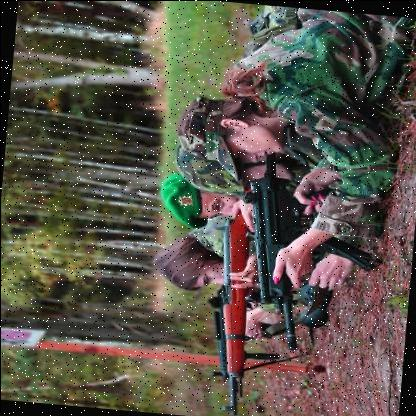rifle: (223, 150, 393, 350), (192, 289, 320, 416), (213, 205, 292, 398)
